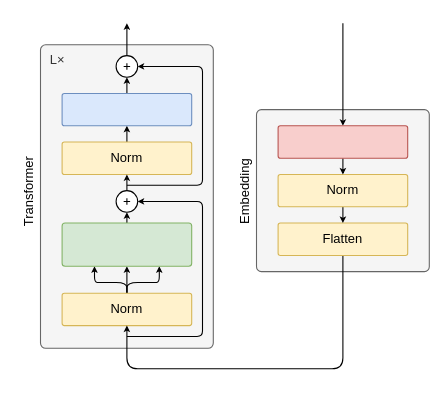
The diagram is 448 pixels wide and 393 high, and some of its shapes have lost their labels. The shapes that lost their labels are listed below. From the top down, each one's box as (x1, y1, x2, y2) in pixels, then its label:
(61, 92, 192, 126): MLP
(277, 125, 408, 158): Conv2d (3×3)
(61, 222, 192, 266): Multi-Head Attention
